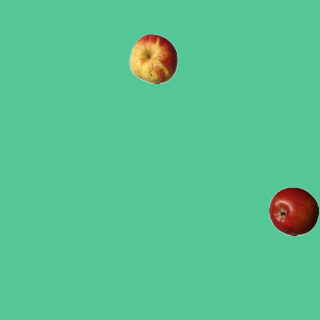Apple Braeburn: (268, 186, 318, 236)
Apple Red Yellow 1: (128, 33, 178, 83)
